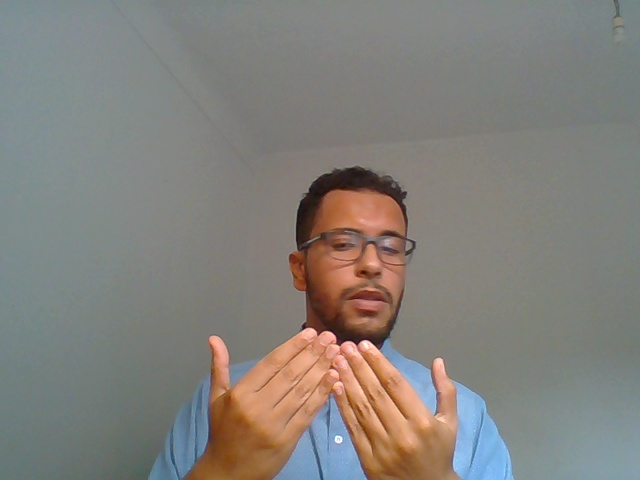thanks: (164, 320, 546, 480)
